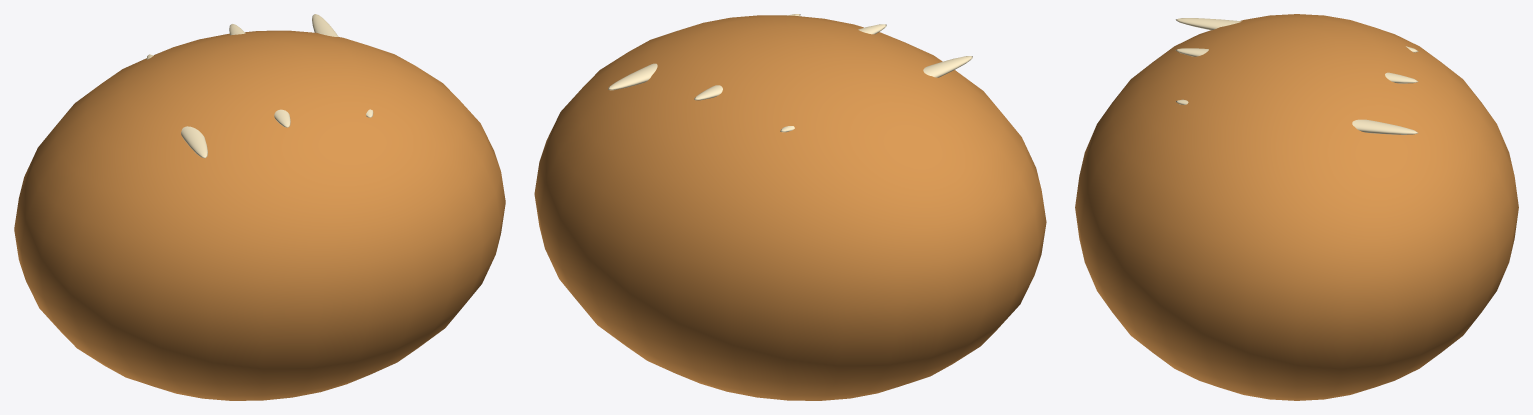
File: boule.glb
3 renders of one model, left to right at view 1: azimuth 30°, elevation 25°; view 2: azimuth 150°, elevation 25°; view 3: azimuth 270°, elevation 25°, orthographic. The views are drawn at different scales.
Visible parts, largest first — view 1: 노릇한 빵 껍질, 부드러운 빵 속; view 2: 노릇한 빵 껍질, 부드러운 빵 속; view 3: 노릇한 빵 껍질, 부드러운 빵 속.
Part boxes in pixels (<box>): 노릇한 빵 껍질: <box>14,30,505,400</box>; 부드러운 빵 속: <box>146,14,373,158</box>; 노릇한 빵 껍질: <box>534,15,1046,400</box>; 부드러운 빵 속: <box>608,14,972,132</box>; 노릇한 빵 껍질: <box>1075,14,1518,400</box>; 부드러운 빵 속: <box>1175,18,1418,134</box>.
Bounding box in the file's own units: 2.5 × 1.72 × 2.16.
